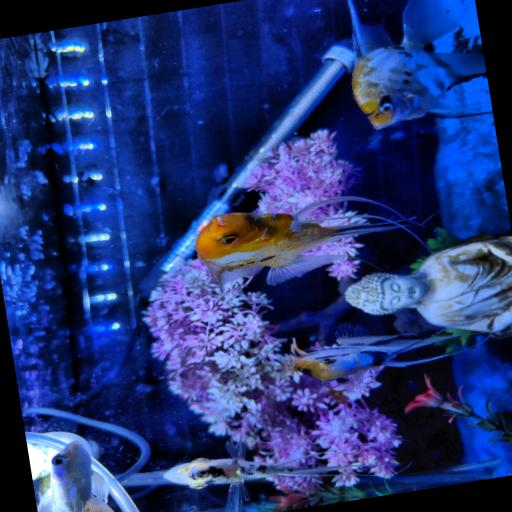Fish: (196, 196, 403, 285), (348, 0, 490, 128), (164, 441, 360, 511), (291, 324, 461, 381), (37, 441, 113, 511)
